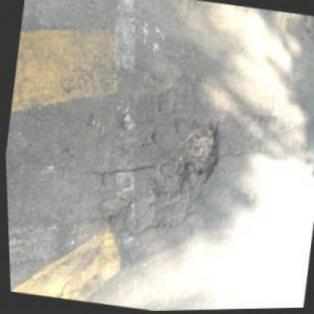Hueco: (173, 113, 224, 185), (146, 151, 190, 200), (90, 189, 130, 225)
